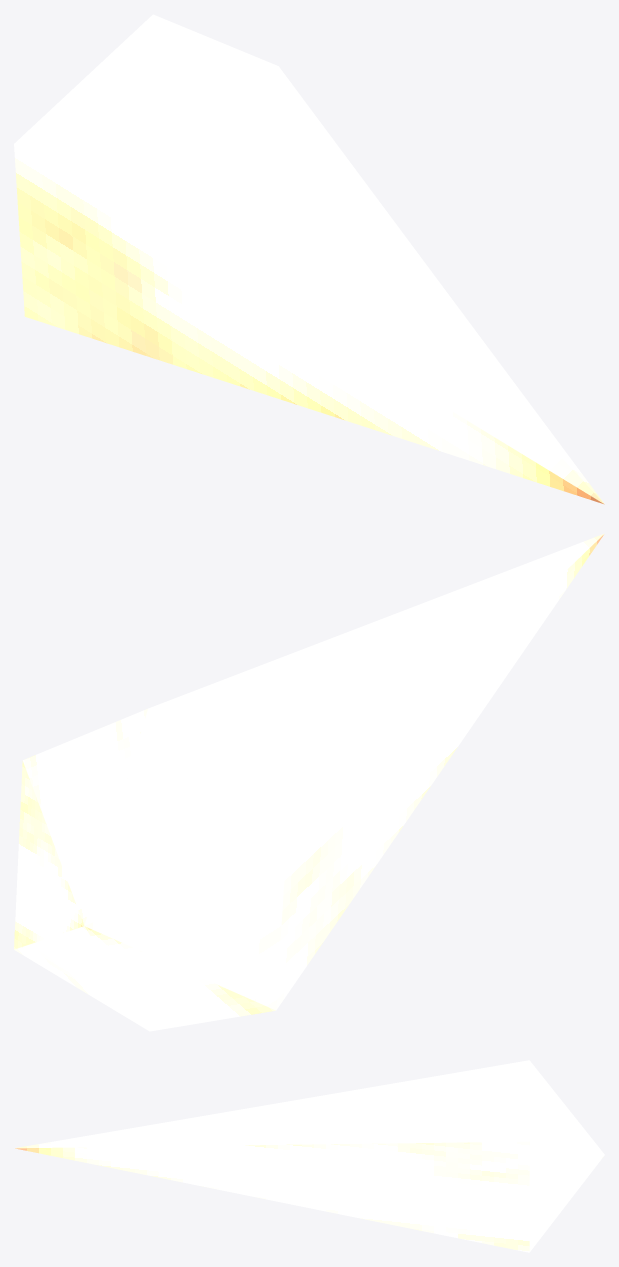
File: muzzleflash3.glb
The picture shows the model from 3 angles, top to bottom: view 1: azimuth 30°, elevation 25°; view 2: azimuth 150°, elevation 25°; view 3: azimuth 270°, elevation 25°; orthographic projection. The views are drawn at different scales.
Visible parts, largest first — view 1: MuzzleFlash3; view 2: MuzzleFlash3; view 3: MuzzleFlash3.
Boxes of the visible parts, box(x1,y1,x2,y2) form: MuzzleFlash3: box(14, 14, 604, 504); MuzzleFlash3: box(14, 533, 604, 1031); MuzzleFlash3: box(15, 1060, 604, 1252).
Bounding box in the file's own units: 0.2916 × 0.3292 × 0.9628.
